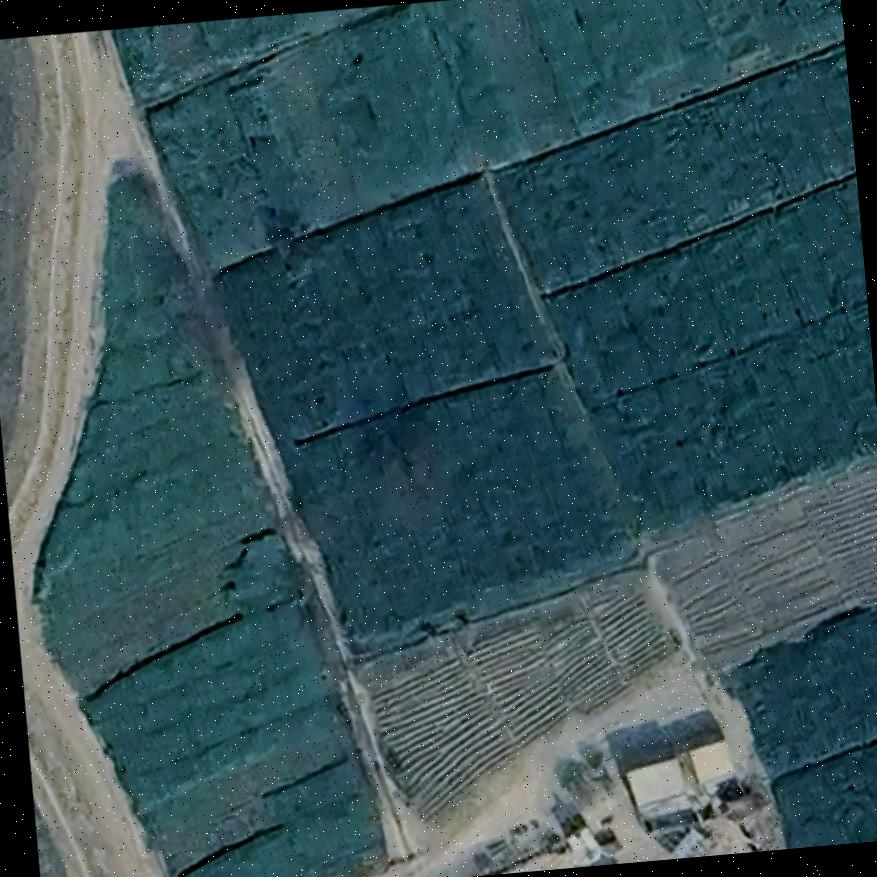Solarpanel: (664, 827, 713, 858)
